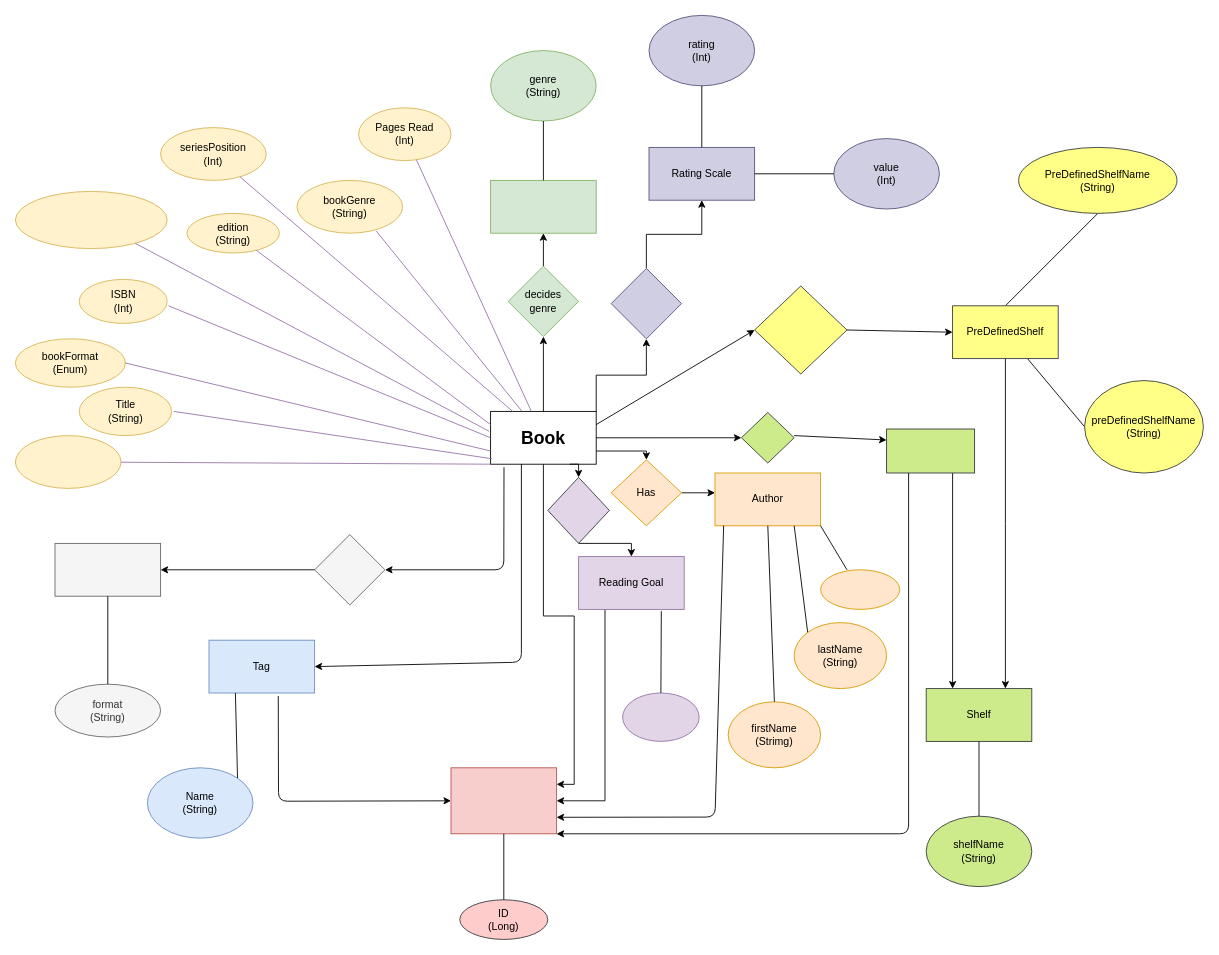
Image size: 1219x955. Some labels were removed from this diagram. Here are the shapes that lost their labels. From the top down, the box of each, then its label:
(15, 191, 167, 249): bookRecommendedBy (String)
(490, 180, 596, 233): Book Genre
(610, 268, 682, 339): decides rating
(754, 285, 847, 374): decides shelf
(741, 412, 794, 463): is kept in
(886, 428, 975, 473): customShelf
(15, 435, 121, 488): No. of Pages (Int)
(547, 477, 609, 543): User Has
(54, 543, 161, 596): Book Format
(314, 534, 385, 605): decides format
(820, 569, 900, 609): book (String)
(622, 692, 699, 741): target (Int)
(450, 767, 557, 834): Base Entity
